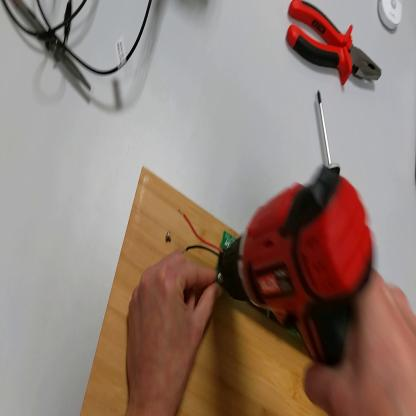electric screwdriver: (219, 163, 375, 360)
hand: (305, 268, 416, 414), (125, 250, 221, 414)
high voltage board: (180, 205, 297, 335)
oscilloscope probe tip: (10, 1, 93, 100)
pliers: (285, 2, 382, 84)
screwdriver-: (315, 90, 332, 171)
working area: (82, 164, 331, 415)
